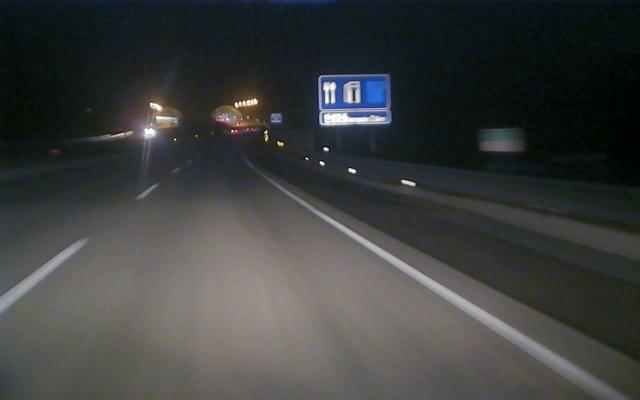lane: (268, 180, 632, 400), (0, 183, 160, 317)
